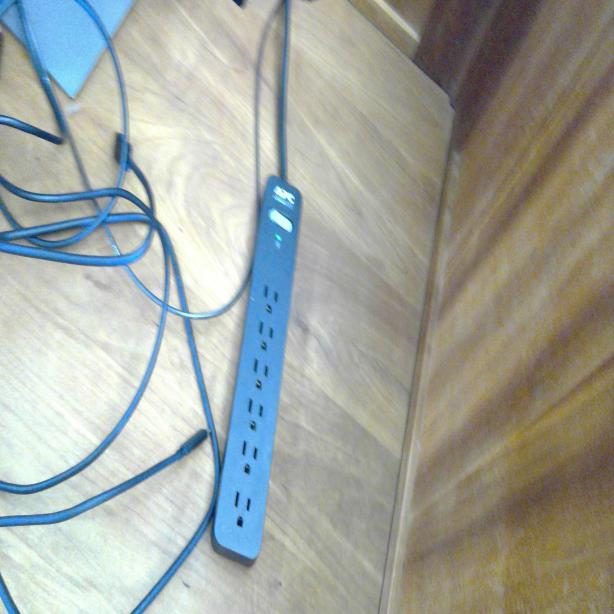typeb: (231, 483, 253, 530), (238, 436, 262, 478), (244, 394, 266, 436), (253, 319, 277, 354), (251, 355, 272, 394), (261, 278, 279, 315)
